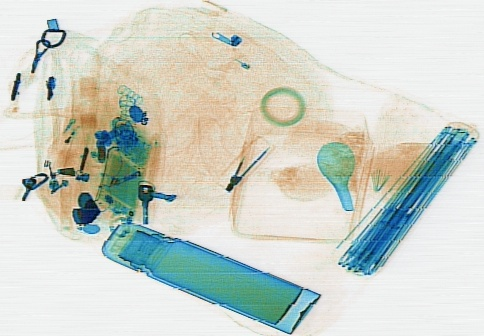lighter: (48, 116, 82, 158)
